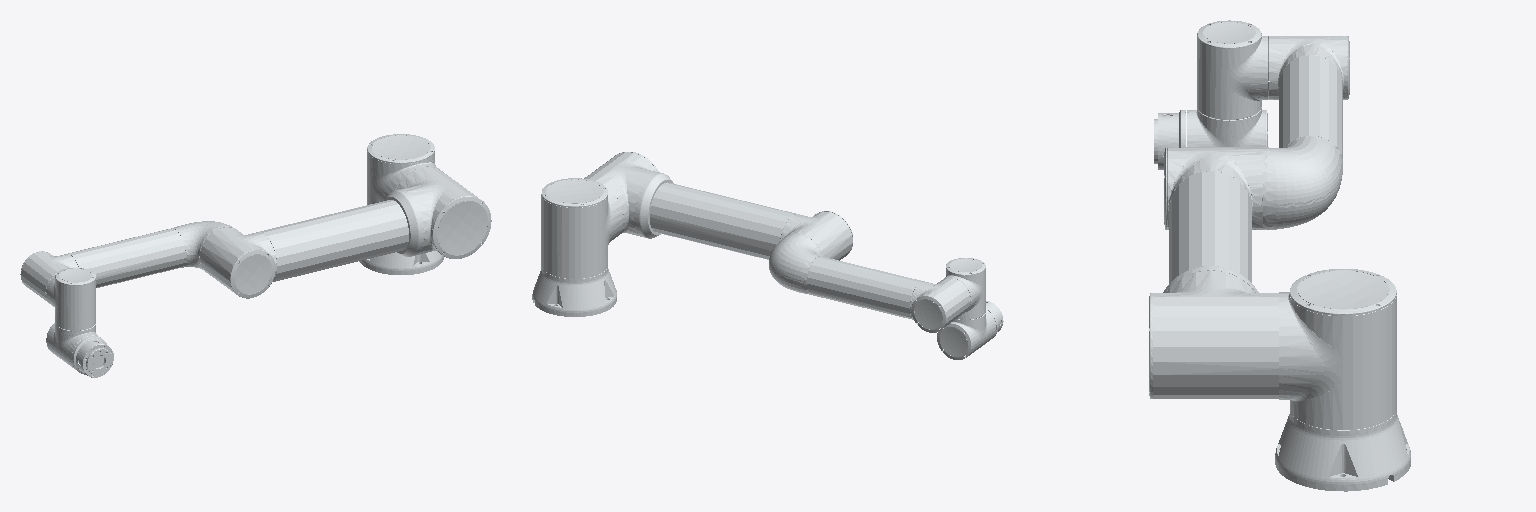
robot.urdf — fairino16_v6_robot:
<?xml version="1.0" encoding="utf-8"?>
<!-- This URDF was automatically created by SolidWorks to URDF Exporter! Originally created by [author] ([email redacted]) 
     Commit Version: 1.5.1-0-g916b5db  Build Version: 1.5.7152.31018
     For more information, please see http://wiki.ros.org/sw_urdf_exporter -->
<robot
  name="fairino16_v6_robot">
  <link
    name="base_link">
    <inertial>
      <origin
        xyz="-0.00017171 -0.00016075 0.041272"
        rpy="0 0 0" />
      <mass
        value="1.6231" />
      <inertia
        ixx="0.0039513"
        ixy="1.1032E-05"
        ixz="-1.0078E-05"
        iyy="0.0039509"
        iyz="-9.408E-06"
        izz="0.0063729" />
    </inertial>
    <visual>
      <origin
        xyz="0 0 0"
        rpy="0 0 0" />
      <geometry>
        <mesh
          filename="package://fairino_description/meshes/fairino16_v6/base_link.STL" />
      </geometry>
      <material
        name="">
        <color
          rgba="0.89804 0.91765 0.92941 1" />
      </material>
    </visual>
    <collision>
      <origin
        xyz="0 0 0"
        rpy="0 0 0" />
      <geometry>
        <mesh
          filename="package://fairino_description/meshes/fairino16_v6/base_link.STL" />
      </geometry>
    </collision>
  </link>
  <link
    name="shoulder_link">
    <inertial>
      <origin
        xyz="2.6949E-07 -0.0077161 0.17504"
        rpy="0 0 0" />
      <mass
        value="3.7152" />
      <inertia
        ixx="0.015538"
        ixy="-6.8007E-08"
        ixz="-8.8038E-08"
        iyy="0.014566"
        iyz="0.00023847"
        izz="0.012006" />
    </inertial>
    <visual>
      <origin
        xyz="0 0 0"
        rpy="0 0 0" />
      <geometry>
        <mesh
          filename="package://fairino_description/meshes/fairino16_v6/shoulder_link.STL" />
      </geometry>
      <material
        name="">
        <color
          rgba="0.89804 0.91765 0.92941 1" />
      </material>
    </visual>
    <collision>
      <origin
        xyz="0 0 0"
        rpy="0 0 0" />
      <geometry>
        <mesh
          filename="package://fairino_description/meshes/fairino16_v6/shoulder_link.STL" />
      </geometry>
    </collision>
  </link>
  <joint
    name="j1"
    type="revolute">
    <origin
      xyz="0 0 0"
      rpy="0 0 0" />
    <parent
      link="base_link" />
    <child
      link="shoulder_link" />
    <axis
      xyz="0 0 1" />
    <limit
      lower="-3.0543"
      upper="3.0543"
      effort="150"
      velocity="3.15" />
    <calibration
      rising="0"
      falling="0" />
    <dynamics
      damping="0"
      friction="0" />
    <safety_controller
      soft_upper_limit="3.0543261"
      soft_lower_limit="-3.0543261"
      k_position="100.0"
      k_velocity="40.0" />
  </joint>
  <link
    name="upperarm_link">
    <inertial>
      <origin
        xyz="-0.20845 -1.0388E-06 0.18245"
        rpy="0 0 0" />
      <mass
        value="9.4622" />
      <inertia
        ixx="0.025921"
        ixy="2.097E-07"
        ixz="0.0025747"
        iyy="0.37903"
        iyz="1.3969E-07"
        izz="0.37439" />
    </inertial>
    <visual>
      <origin
        xyz="0 0 0"
        rpy="0 0 0" />
      <geometry>
        <mesh
          filename="package://fairino_description/meshes/fairino16_v6/upperarm_link.STL" />
      </geometry>
      <material
        name="">
        <color
          rgba="0.89804 0.91765 0.92941 1" />
      </material>
    </visual>
    <collision>
      <origin
        xyz="0 0 0"
        rpy="0 0 0" />
      <geometry>
        <mesh
          filename="package://fairino_description/meshes/fairino16_v6/upperarm_link.STL" />
      </geometry>
    </collision>
  </link>
  <joint
    name="j2"
    type="revolute">
    <origin
      xyz="0 0 0.18"
      rpy="1.5708 0 0" />
    <parent
      link="shoulder_link" />
    <child
      link="upperarm_link" />
    <axis
      xyz="0 0 1" />
    <limit
      lower="-4.6251"
      upper="1.4835"
      effort="150"
      velocity="3.15" />
    <calibration
      rising="0"
      falling="0" />
    <dynamics
      damping="0"
      friction="0" />
    <safety_controller
      soft_upper_limit="3.0543261"
      soft_lower_limit="-3.0543261"
      k_position="100.0"
      k_velocity="40.0" />
  </joint>
  <link
    name="forearm_link">
    <inertial>
      <origin
        xyz="-0.23441 5.6569E-07 0.048131"
        rpy="0 0 0" />
      <mass
        value="2.9964" />
      <inertia
        ixx="0.003827"
        ixy="-1.6004E-07"
        ixz="-0.0011373"
        iyy="0.054019"
        iyz="-5.5129E-08"
        izz="0.053512" />
    </inertial>
    <visual>
      <origin
        xyz="0 0 0"
        rpy="0 0 0" />
      <geometry>
        <mesh
          filename="package://fairino_description/meshes/fairino16_v6/forearm_link.STL" />
      </geometry>
      <material
        name="">
        <color
          rgba="0.89804 0.91765 0.92941 1" />
      </material>
    </visual>
    <collision>
      <origin
        xyz="0 0 0"
        rpy="0 0 0" />
      <geometry>
        <mesh
          filename="package://fairino_description/meshes/fairino16_v6/forearm_link.STL" />
      </geometry>
    </collision>
  </link>
  <joint
    name="j3"
    type="revolute">
    <origin
      xyz="-0.52 0 0"
      rpy="0 0 0" />
    <parent
      link="upperarm_link" />
    <child
      link="forearm_link" />
    <axis
      xyz="0 0 1" />
    <limit
      lower="-2.8274"
      upper="2.8274"
      effort="150"
      velocity="3.15" />
    <calibration
      rising="0"
      falling="0" />
    <dynamics
      damping="0"
      friction="0" />
    <safety_controller
      soft_upper_limit="3.0543261"
      soft_lower_limit="-3.0543261"
      k_position="100.0"
      k_velocity="40.0" />
  </joint>
  <link
    name="wrist1_link">
    <inertial>
      <origin
        xyz="2.4949E-07 -0.002597 0.1549"
        rpy="0 0 0" />
      <mass
        value="2.1573" />
      <inertia
        ixx="0.0033086"
        ixy="1.2835E-08"
        ixz="6.0662E-08"
        iyy="0.0024933"
        iyz="3.9256E-05"
        izz="0.003143" />
    </inertial>
    <visual>
      <origin
        xyz="0 0 0"
        rpy="0 0 0" />
      <geometry>
        <mesh
          filename="package://fairino_description/meshes/fairino16_v6/wrist1_link.STL" />
      </geometry>
      <material
        name="">
        <color
          rgba="0.89804 0.91765 0.92941 1" />
      </material>
    </visual>
    <collision>
      <origin
        xyz="0 0 0"
        rpy="0 0 0" />
      <geometry>
        <mesh
          filename="package://fairino_description/meshes/fairino16_v6/wrist1_link.STL" />
      </geometry>
    </collision>
  </link>
  <joint
    name="j4"
    type="revolute">
    <origin
      xyz="-0.4 0 0"
      rpy="0 0 0" />
    <parent
      link="forearm_link" />
    <child
      link="wrist1_link" />
    <axis
      xyz="0 0 1" />
    <limit
      lower="-4.6251"
      upper="1.4835"
      effort="28"
      velocity="3.2" />
    <calibration
      rising="0"
      falling="0" />
    <dynamics
      damping="0"
      friction="0" />
    <safety_controller
      soft_upper_limit="3.0543261"
      soft_lower_limit="-3.0543261"
      k_position="100.0"
      k_velocity="40.0" />
  </joint>
  <link
    name="wrist2_link">
    <inertial>
      <origin
        xyz="-2.4949E-07 0.002597 0.1099"
        rpy="0 0 0" />
      <mass
        value="2.1573" />
      <inertia
        ixx="0.0033086"
        ixy="1.2835E-08"
        ixz="-6.0662E-08"
        iyy="0.0024933"
        iyz="-3.9256E-05"
        izz="0.003143" />
    </inertial>
    <visual>
      <origin
        xyz="0 0 0"
        rpy="0 0 0" />
      <geometry>
        <mesh
          filename="package://fairino_description/meshes/fairino16_v6/wrist2_link.STL" />
      </geometry>
      <material
        name="">
        <color
          rgba="0.89804 0.91765 0.92941 1" />
      </material>
    </visual>
    <collision>
      <origin
        xyz="0 0 0"
        rpy="0 0 0" />
      <geometry>
        <mesh
          filename="package://fairino_description/meshes/fairino16_v6/wrist2_link.STL" />
      </geometry>
    </collision>
  </link>
  <joint
    name="j5"
    type="revolute">
    <origin
      xyz="0 0 0.159"
      rpy="1.5708 0 0" />
    <parent
      link="wrist1_link" />
    <child
      link="wrist2_link" />
    <axis
      xyz="0 0 1" />
    <limit
      lower="-3.0543"
      upper="3.0543"
      effort="28"
      velocity="3.2" />
    <calibration
      rising="0"
      falling="0" />
    <dynamics
      damping="0"
      friction="0" />
    <safety_controller
      soft_upper_limit="3.0543261"
      soft_lower_limit="-3.0543261"
      k_position="100.0"
      k_velocity="40.0" />
  </joint>
  <link
    name="wrist3_link">
    <inertial>
      <origin
        xyz="-8.7063E-06 -3.2122E-05 0.082426"
        rpy="0 0 0" />
      <mass
        value="0.20145" />
      <inertia
        ixx="0.0001117"
        ixy="9.1303E-11"
        ixz="6.3367E-09"
        iyy="0.00011182"
        iyz="9.9213E-08"
        izz="0.00016776" />
    </inertial>
    <visual>
      <origin
        xyz="0 0 0"
        rpy="0 0 0" />
      <geometry>
        <mesh
          filename="package://fairino_description/meshes/fairino16_v6/wrist3_link.STL" />
      </geometry>
      <material
        name="">
        <color
          rgba="0.89804 0.91765 0.92941 1" />
      </material>
    </visual>
    <collision>
      <origin
        xyz="0 0 0"
        rpy="0 0 0" />
      <geometry>
        <mesh
          filename="package://fairino_description/meshes/fairino16_v6/wrist3_link.STL" />
      </geometry>
    </collision>
  </link>
  <joint
    name="j6"
    type="revolute">
    <origin
      xyz="0 0 0.114"
      rpy="-1.5708 0 0" />
    <parent
      link="wrist2_link" />
    <child
      link="wrist3_link" />
    <axis
      xyz="0 0 1" />
    <limit
      lower="-3.0543"
      upper="3.0543"
      effort="28"
      velocity="3.2" />
    <calibration
      rising="0"
      falling="0" />
    <dynamics
      damping="0"
      friction="0" />
    <safety_controller
      soft_upper_limit="3.0543261"
      soft_lower_limit="-3.0543261"
      k_position="100.0"
      k_velocity="40.0" />
  </joint>
</robot>

--- What the picture shows (computed from the rendered views, not written in the file) ---
The picture shows the robot from 3 angles, left to right: view 1: azimuth 30°, elevation 25°; view 2: azimuth 150°, elevation 25°; view 3: azimuth 270°, elevation 25°; orthographic projection.
Robot: fairino16_v6_robot — 7 links, 6 joints (6 revolute); root link base_link; default pose: all joints at 0.
Links seen in each view (by area): view 1: upperarm_link, forearm_link, shoulder_link, wrist1_link, base_link, wrist3_link, wrist2_link; view 2: upperarm_link, forearm_link, shoulder_link, base_link, wrist2_link, wrist1_link; view 3: upperarm_link, shoulder_link, forearm_link, base_link, wrist1_link, wrist2_link, wrist3_link.
Boxes of the visible links, <box> form: upperarm_link: <box>200,166,491,298</box>; forearm_link: <box>20,221,236,303</box>; shoulder_link: <box>367,134,442,204</box>; wrist1_link: <box>46,268,95,330</box>; base_link: <box>359,251,443,274</box>; wrist3_link: <box>72,336,113,377</box>; wrist2_link: <box>46,323,100,369</box>; upperarm_link: <box>584,152,852,260</box>; forearm_link: <box>769,233,970,332</box>; shoulder_link: <box>541,178,623,278</box>; base_link: <box>532,266,616,316</box>; wrist2_link: <box>937,309,995,359</box>; wrist1_link: <box>944,258,985,319</box>; upperarm_link: <box>1149,147,1278,398</box>; shoulder_link: <box>1279,269,1396,429</box>; forearm_link: <box>1263,36,1349,229</box>; base_link: <box>1275,410,1410,491</box>; wrist1_link: <box>1197,20,1267,119</box>; wrist2_link: <box>1187,107,1267,146</box>; wrist3_link: <box>1154,110,1185,169</box>.
Size in the robot's own frame: 1.06 by 0.3667 by 0.2667 metres.
7 mesh visuals loaded from 7 distinct referenced files (7 binary STL).
